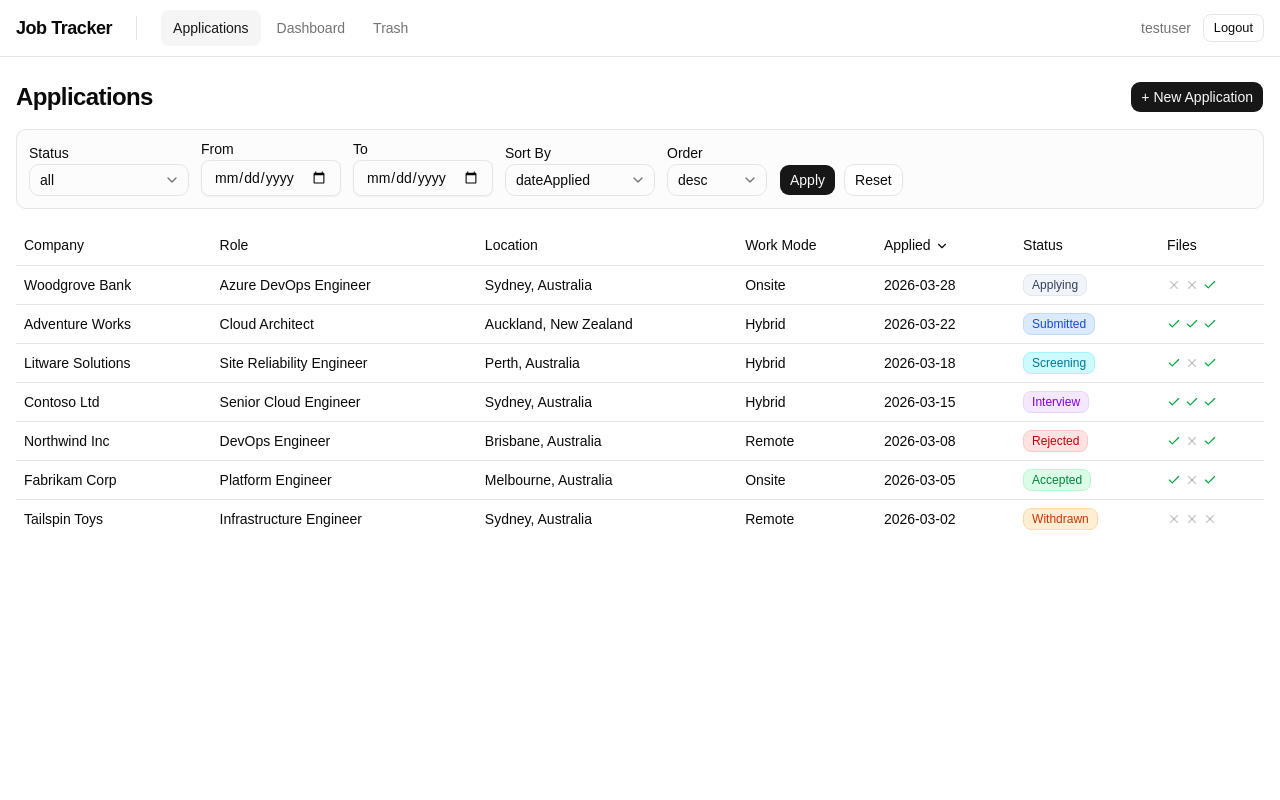
ApplicationsPage › shows validation errors when submitting empty create form
This screenshot has width=1280, height=800.
Click the button "+ New Application" at (1197, 97), box [1130, 81, 1264, 113]
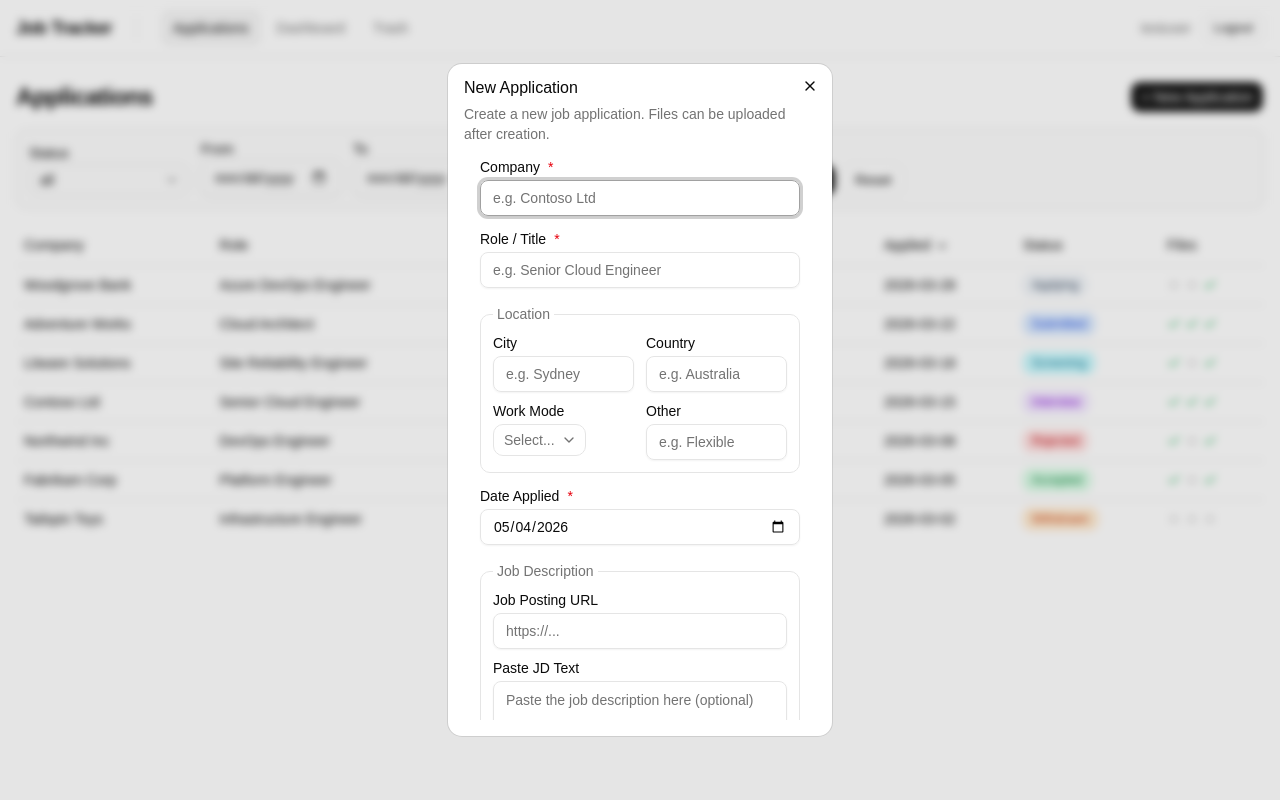
Now the heading "New Application" is shown, box [464, 79, 578, 96]
Clear the field labelled "Role / Title *" at (640, 270), box [480, 252, 800, 288]
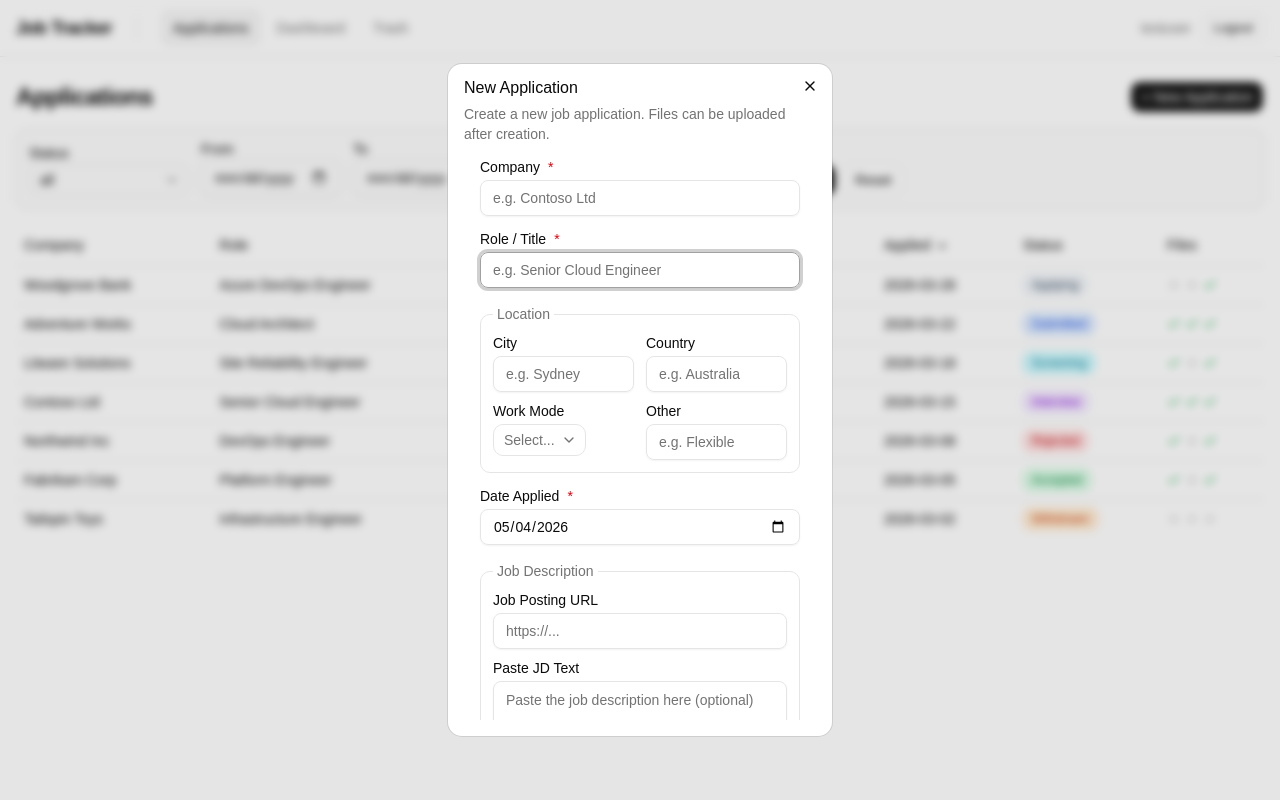
Clear the date field labelled "Date Applied *" at (640, 527), box [480, 509, 800, 545]
(page scrolled)
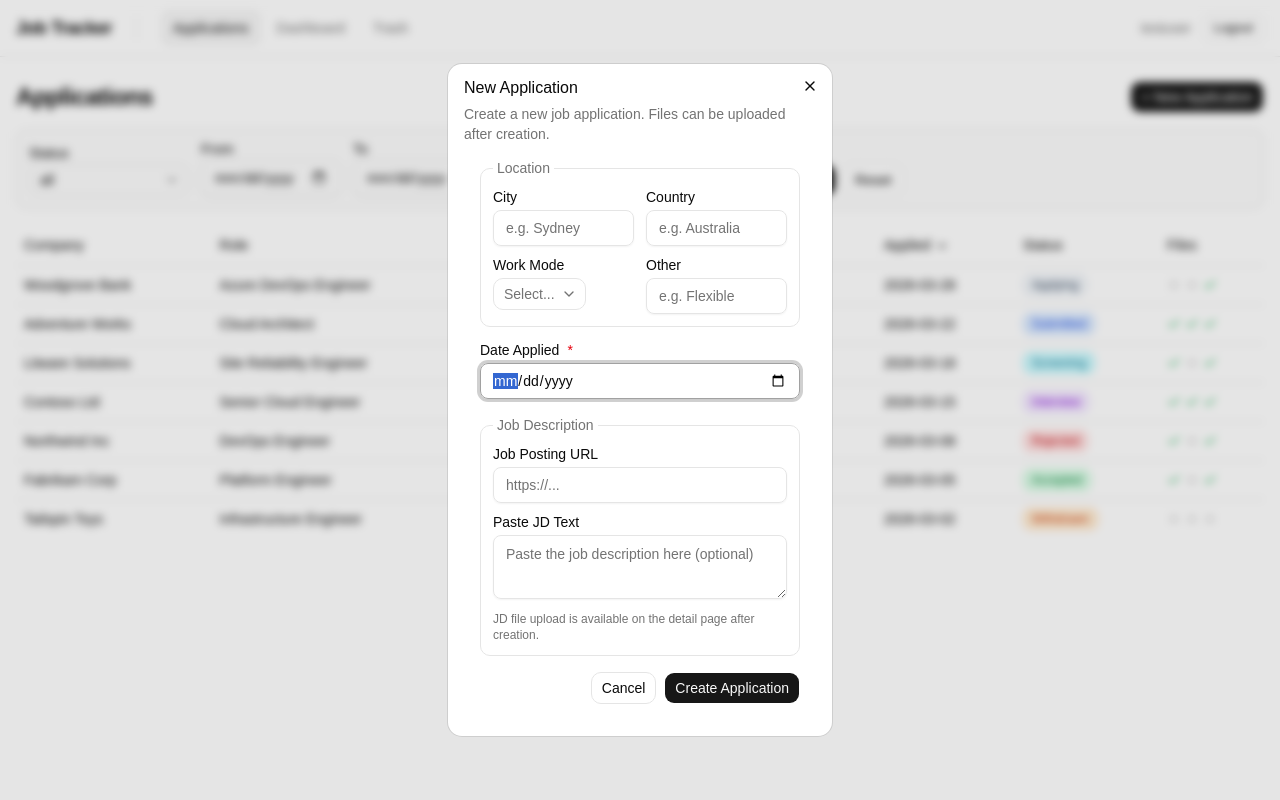
Click the Create button
Click the button "Create Application" at (732, 688), box [664, 672, 800, 704]
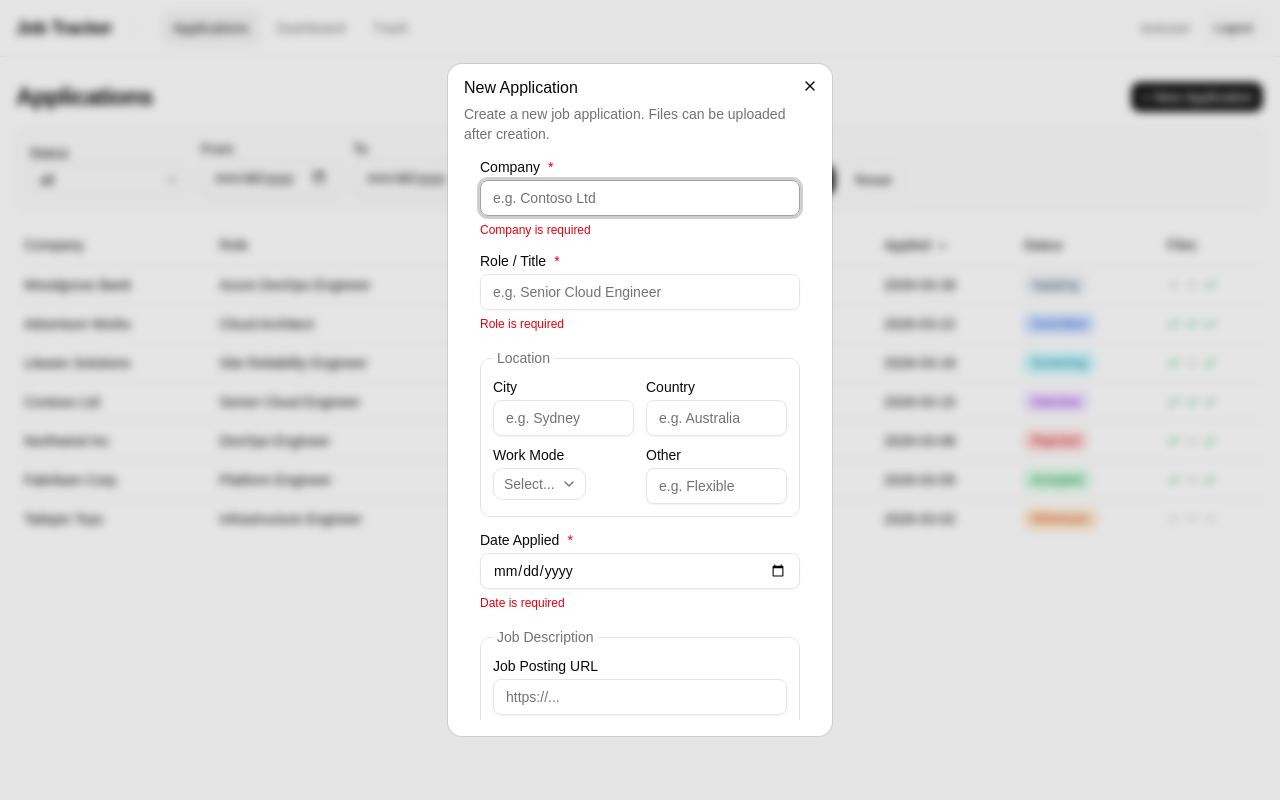
Now the text "Company is required" is shown, box [480, 223, 591, 237]
Now the text "Role is required" is shown, box [480, 317, 564, 331]
